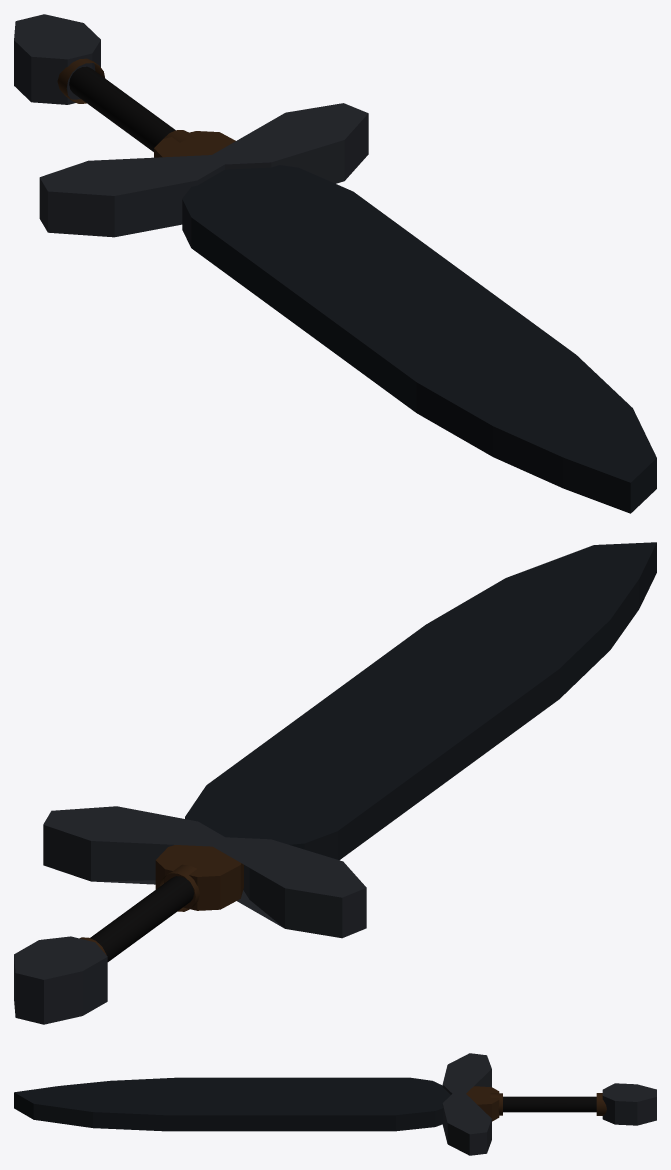
File: SM_RiftforgedSlabblade_V2.obj
3 views of the same model, one above another, from view 1: azimuth 30°, elevation 25°; view 2: azimuth 150°, elevation 25°; view 3: azimuth 270°, elevation 25° (orthographic). The views are drawn at different scales.
Visible parts, largest first — view 1: SM_RiftforgedSlabblade_V2; view 2: SM_RiftforgedSlabblade_V2; view 3: SM_RiftforgedSlabblade_V2.
Part boxes in pixels (left/top/right/bottom): SM_RiftforgedSlabblade_V2: left=14, top=14, right=656, bottom=513; SM_RiftforgedSlabblade_V2: left=14, top=542, right=656, bottom=1024; SM_RiftforgedSlabblade_V2: left=14, top=1053, right=656, bottom=1155.
Size of the model in its own units: 78 by 10.85 by 261.
